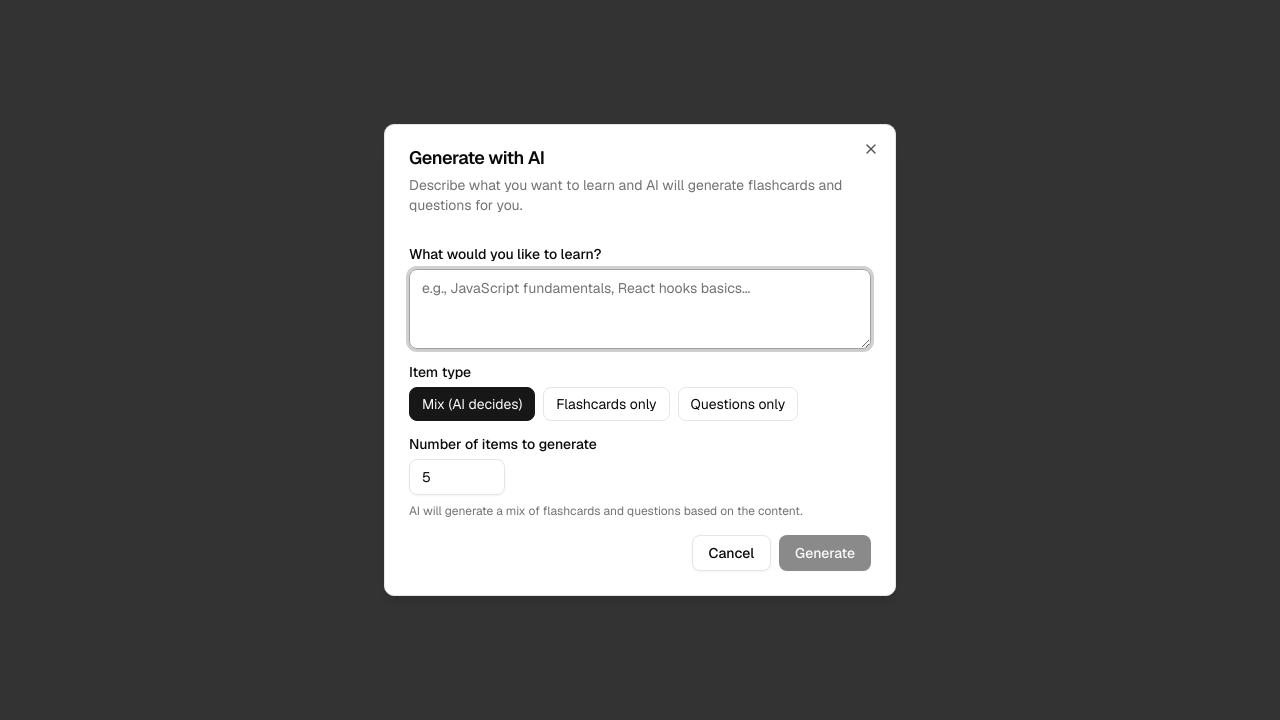
Scenario: AIGenerateModal › form submission › shows loading state while generating
The width and height of the screenshot is (1280, 720).
Type "Test prompt" into the text box labelled "What would you like to learn?". click: (640, 309)
box: [409,269,871,349]
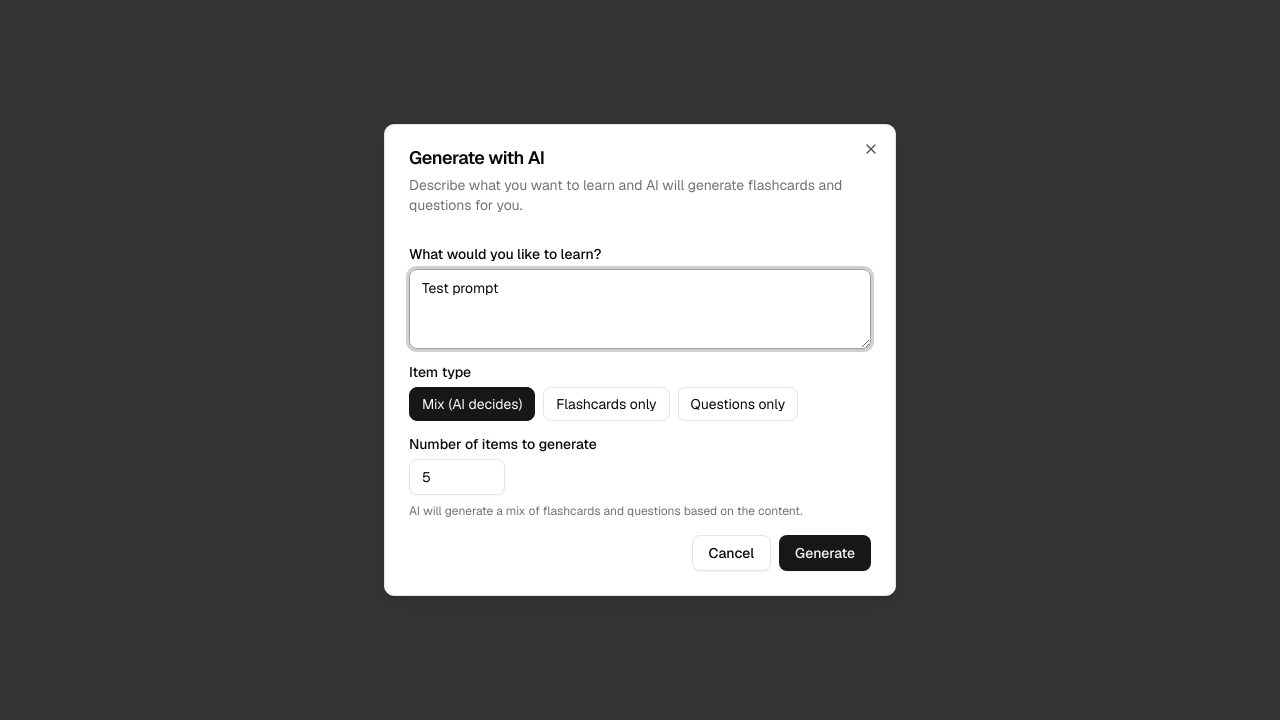
Click the button "Generate". click: (825, 553)
box: [779,535,871,571]
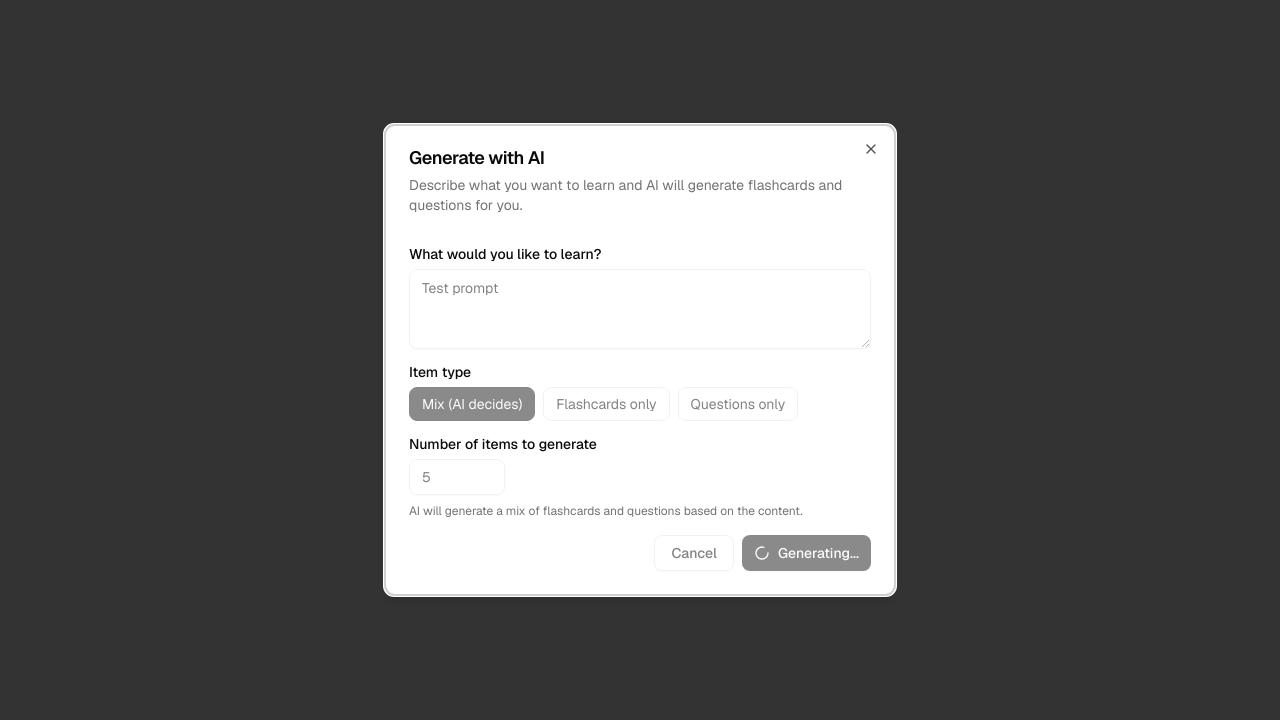
Expected: the button "Generating..." is shown, [742,535,871,571]
Expected: the text box labelled "What would you like to learn?" is disabled, [409,269,871,349]
